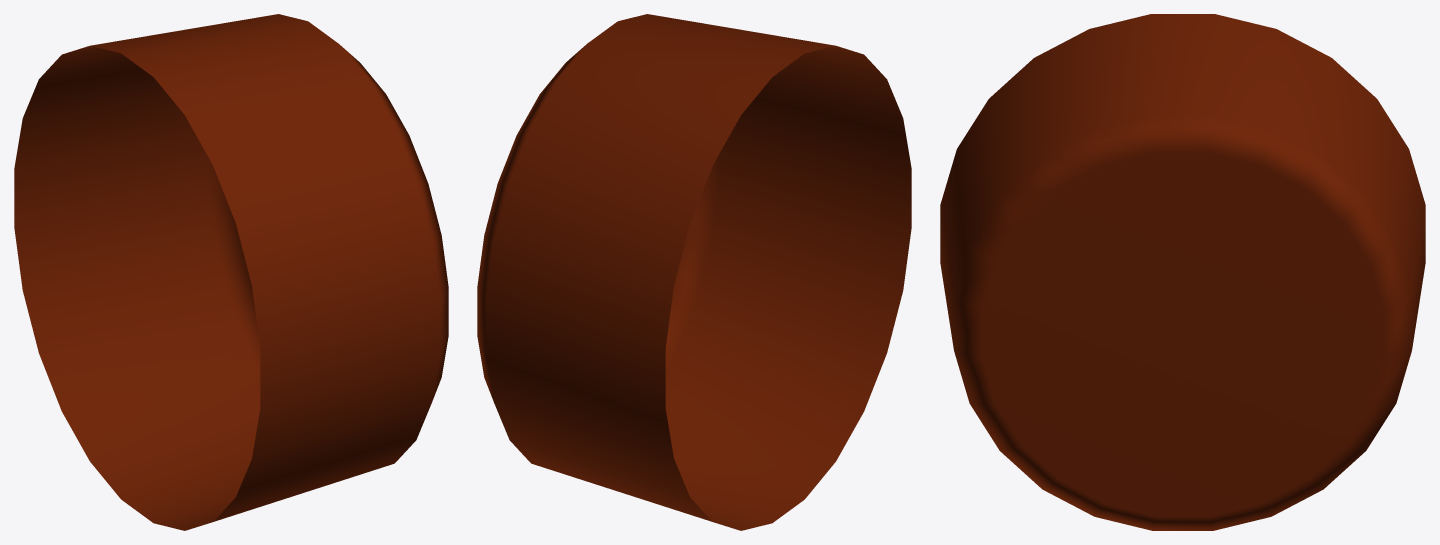
File: SM_Toster_01_Button_02.fbx
The picture shows the model from 3 angles, left to right: view 1: azimuth 30°, elevation 25°; view 2: azimuth 150°, elevation 25°; view 3: azimuth 270°, elevation 25°; orthographic projection.
Parts seen in each view (by area): view 1: SM_Toster_01_Button_02; view 2: SM_Toster_01_Button_02; view 3: SM_Toster_01_Button_02.
Part boxes in pixels (box(x1,y1,x2,y2)): SM_Toster_01_Button_02: box(14, 14, 448, 530); SM_Toster_01_Button_02: box(477, 14, 911, 530); SM_Toster_01_Button_02: box(940, 14, 1425, 530).
Size of the model in its own units: 2.62 by 5.33 by 5.33.
